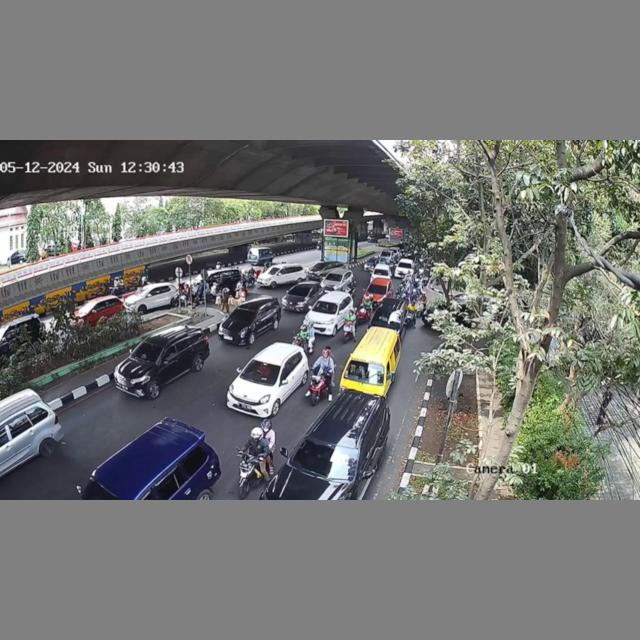windshield: (290, 439, 363, 480), (342, 357, 389, 387), (244, 359, 280, 387), (128, 339, 164, 363), (227, 304, 260, 322)
